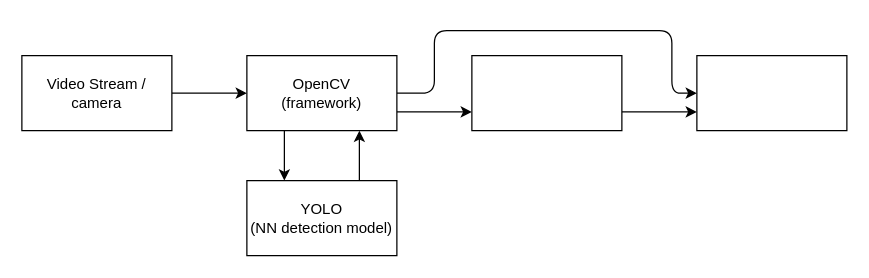
Image size: 869x278. Some labels were removed from this diagram. Each missing label, with the centre of its shape:
AR output: pixel 771 92
Yaris XP10 Classifier: pixel 546 92
